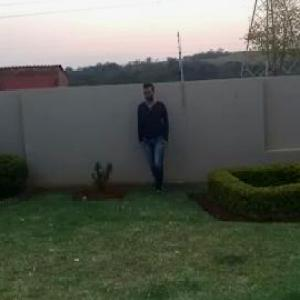follow: (138, 79, 172, 194)
